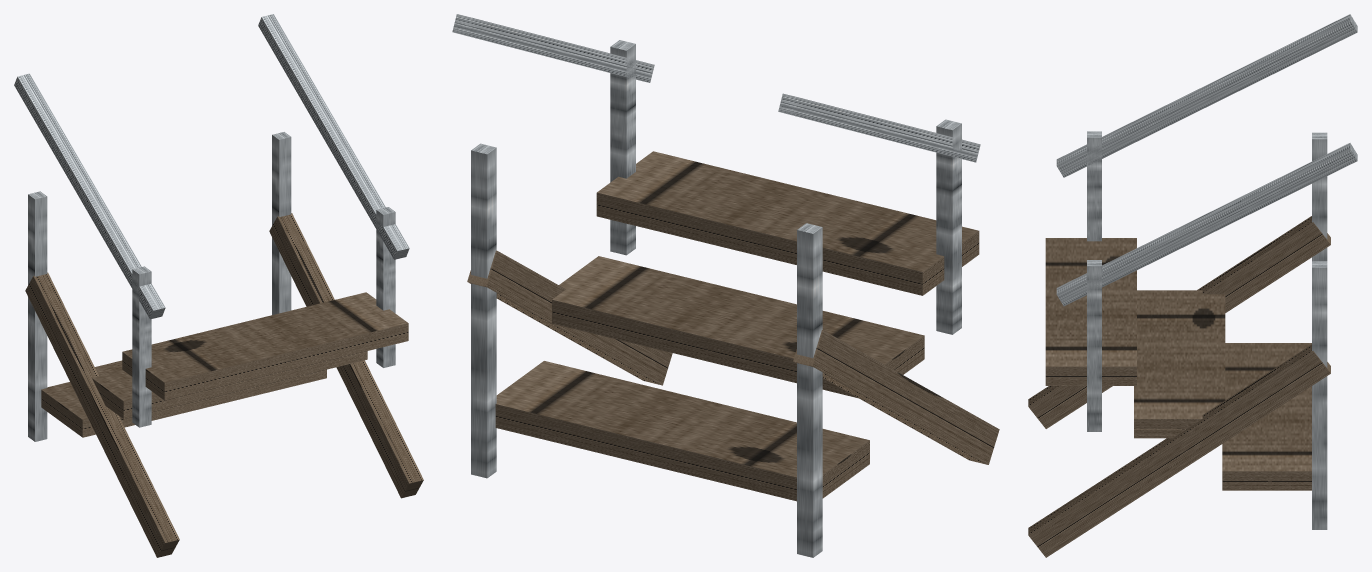
The model's file is WK_STR_PorchSteps.glb.
3 views of the same model, side by side, from view 1: azimuth 30°, elevation 25°; view 2: azimuth 150°, elevation 25°; view 3: azimuth 270°, elevation 25° (orthographic). The views are drawn at different scales.
Parts seen in each view (by area): view 1: WK_STR_PorchSteps_P03, WK_STR_PorchSteps_P04, WK_STR_PorchSteps_P08, WK_STR_PorchSteps_P11, WK_STR_PorchSteps_P07, WK_STR_PorchSteps_P05, WK_STR_PorchSteps_P02, WK_STR_PorchSteps_P01, WK_STR_PorchSteps_P09, WK_STR_PorchSteps_P06, WK_STR_PorchSteps_P10; view 2: WK_STR_PorchSteps_P01, WK_STR_PorchSteps_P03, WK_STR_PorchSteps_P02, WK_STR_PorchSteps_P04, WK_STR_PorchSteps_P05, WK_STR_PorchSteps_P09, WK_STR_PorchSteps_P08, WK_STR_PorchSteps_P06, WK_STR_PorchSteps_P10, WK_STR_PorchSteps_P07, WK_STR_PorchSteps_P11; view 3: WK_STR_PorchSteps_P02, WK_STR_PorchSteps_P08, WK_STR_PorchSteps_P03, WK_STR_PorchSteps_P01, WK_STR_PorchSteps_P07, WK_STR_PorchSteps_P11, WK_STR_PorchSteps_P04, WK_STR_PorchSteps_P09, WK_STR_PorchSteps_P10, WK_STR_PorchSteps_P06, WK_STR_PorchSteps_P05.
Boxes of the visible parts, x1,y1,x2,y2 form: WK_STR_PorchSteps_P03: (122,292,408,400); WK_STR_PorchSteps_P04: (25,272,179,557); WK_STR_PorchSteps_P08: (269,213,423,498); WK_STR_PorchSteps_P11: (258,14,409,259); WK_STR_PorchSteps_P07: (14,73,165,319); WK_STR_PorchSteps_P05: (28,191,47,441); WK_STR_PorchSteps_P02: (92,351,367,418); WK_STR_PorchSteps_P01: (41,369,326,437); WK_STR_PorchSteps_P09: (272,132,291,314); WK_STR_PorchSteps_P06: (132,266,151,427); WK_STR_PorchSteps_P10: (376,207,395,367); WK_STR_PorchSteps_P01: (495,361,869,501); WK_STR_PorchSteps_P03: (596,151,979,295); WK_STR_PorchSteps_P02: (542,256,924,400); WK_STR_PorchSteps_P04: (793,330,999,464); WK_STR_PorchSteps_P05: (797,223,822,557); WK_STR_PorchSteps_P09: (471,143,496,478); WK_STR_PorchSteps_P08: (467,250,672,385); WK_STR_PorchSteps_P06: (936,119,961,334); WK_STR_PorchSteps_P10: (610,40,635,255); WK_STR_PorchSteps_P07: (778,93,980,162); WK_STR_PorchSteps_P11: (452,14,654,82); WK_STR_PorchSteps_P02: (1134,290,1225,438); WK_STR_PorchSteps_P08: (1028,344,1330,557); WK_STR_PorchSteps_P03: (1045,238,1136,385); WK_STR_PorchSteps_P01: (1222,343,1311,490); WK_STR_PorchSteps_P07: (1056,14,1357,177); WK_STR_PorchSteps_P11: (1056,143,1357,306); WK_STR_PorchSteps_P04: (1028,216,1330,428); WK_STR_PorchSteps_P09: (1312,261,1327,529); WK_STR_PorchSteps_P10: (1087,260,1101,431); WK_STR_PorchSteps_P06: (1087,131,1101,241); WK_STR_PorchSteps_P05: (1312,132,1327,261).
Size of the model in its own units: 1.06 by 1.48 by 1.08.
2 materials, 2 textured.
